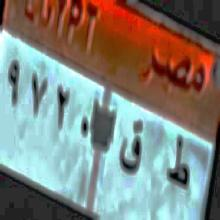0: (80, 115, 90, 142)
2: (56, 79, 70, 134)
7: (29, 71, 48, 123)
9: (7, 57, 22, 110)
Taa: (166, 129, 192, 198)
qaaf: (119, 113, 145, 182)
